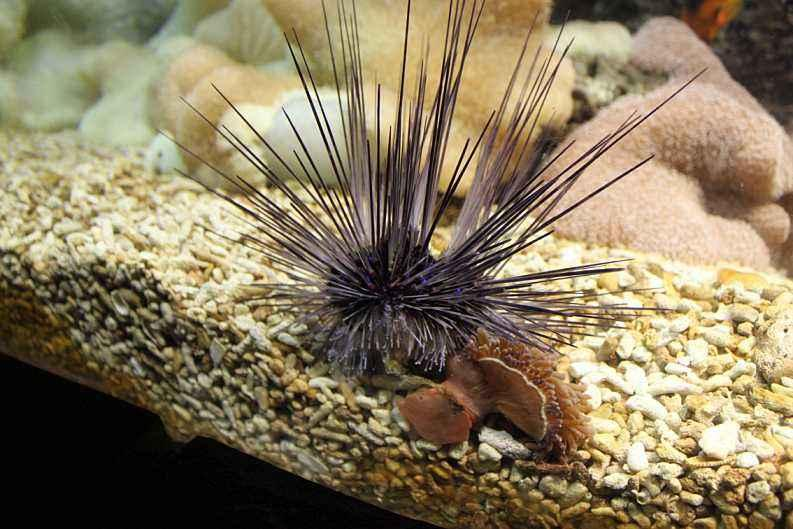urchin: (197, 5, 683, 372)
